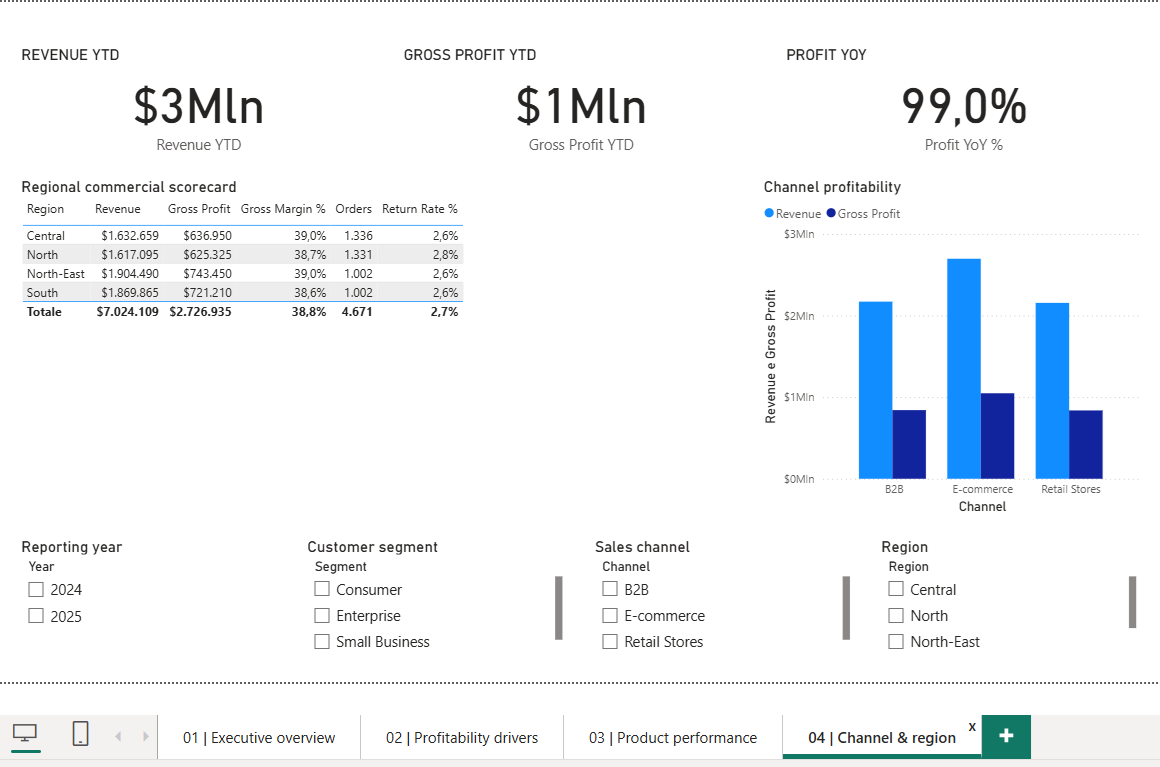

Layout of this report page (visuals, bound fields, positions):
{"tool":"powerbi","page":{"name":"04 | Channel & region","canvas":[1280,720],"ordinal":3},"visuals":[{"type":"card","title":"REVENUE YTD","fields":{"Values":["Sales.Revenue YTD"]},"box":[20,20,400,120],"z":0},{"type":"card","title":"GROSS PROFIT YTD","fields":{"Values":["Sales.Gross Profit YTD"]},"box":[440,20,400,120],"z":0},{"type":"card","title":"PROFIT YOY","fields":{"Values":["Sales.Profit YoY %"]},"box":[860,20,400,120],"z":0},{"type":"tableEx","title":"Regional commercial scorecard","fields":{"Values":["Regions.Region","Sales.Revenue","Sales.Gross Profit","Sales.Gross Margin %","Sales.Orders","Sales.Return Rate %"]},"box":[20,165,795,375],"z":0},{"type":"clusteredColumnChart","title":"Channel profitability","fields":{"Category":["Channels.Channel"],"Y":["Sales.Revenue","Sales.Gross Profit"]},"box":[835,165,425,375],"z":0},{"type":"slicer","title":"Reporting year","fields":{"Values":["Dates.Year"]},"box":[20,560,290,130],"z":0},{"type":"slicer","title":"Customer segment","fields":{"Values":["Segments.Segment"]},"box":[335,560,290,130],"z":0},{"type":"slicer","title":"Sales channel","fields":{"Values":["Channels.Channel"]},"box":[650,560,290,130],"z":0},{"type":"slicer","title":"Region","fields":{"Values":["Regions.Region"]},"box":[965,560,290,130],"z":0}]}

Visuals, with their boxes on the page's 1280x720 design canvas (x1, y1, x2, y2). These are canvas units, not pixel positions in the 1160x767 screenshot, which may show the page scaled, cropped or inside an application window:
"REVENUE YTD" card: detection(20, 20, 420, 140)
"GROSS PROFIT YTD" card: detection(440, 20, 840, 140)
"PROFIT YOY" card: detection(860, 20, 1260, 140)
"Regional commercial scorecard" tableEx: detection(20, 165, 815, 540)
"Channel profitability" clusteredColumnChart: detection(835, 165, 1260, 540)
"Reporting year" slicer: detection(20, 560, 310, 690)
"Customer segment" slicer: detection(335, 560, 625, 690)
"Sales channel" slicer: detection(650, 560, 940, 690)
"Region" slicer: detection(965, 560, 1255, 690)
